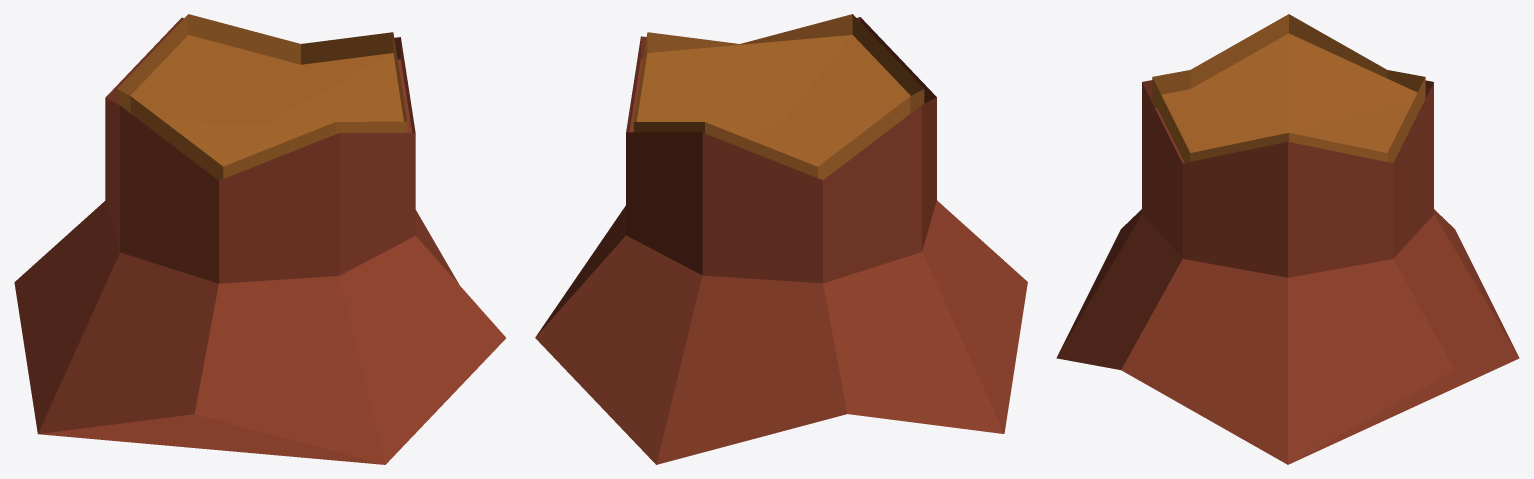
The model's file is TreeStump.fbx.
The picture shows the model from 3 angles, left to right: view 1: azimuth 30°, elevation 25°; view 2: azimuth 150°, elevation 25°; view 3: azimuth 270°, elevation 25°; orthographic projection. The views are drawn at different scales.
Visible parts, largest first — view 1: Cube, Cube.001; view 2: Cube, Cube.001; view 3: Cube, Cube.001.
Boxes of the visible parts, x1,y1,x2,y2 form: Cube: (14,17,505,464); Cube.001: (117,14,407,180); Cube: (535,17,1027,464); Cube.001: (633,14,924,179); Cube: (1056,80,1519,464); Cube.001: (1152,14,1425,163).
Bounding box in the file's own units: 388 × 262 × 377.
